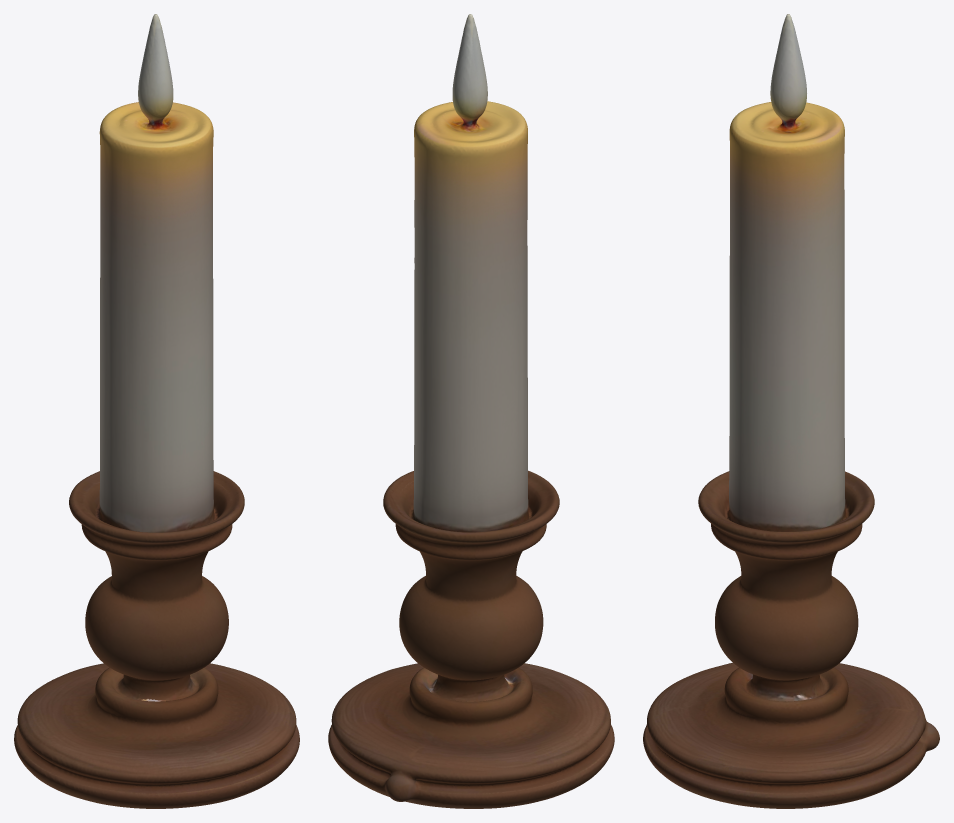
Rendered from candle-10.glb.
3 views of the same model, side by side, from view 1: azimuth 30°, elevation 25°; view 2: azimuth 150°, elevation 25°; view 3: azimuth 270°, elevation 25° (orthographic).
Parts seen in each view (by area): view 1: tripo_node_bebc0272-2e6c-4c96-a715-bcc43b392922; view 2: tripo_node_bebc0272-2e6c-4c96-a715-bcc43b392922; view 3: tripo_node_bebc0272-2e6c-4c96-a715-bcc43b392922.
Part boxes in pixels (x1,y1,x2,y2): tripo_node_bebc0272-2e6c-4c96-a715-bcc43b392922: (14, 14, 299, 808); tripo_node_bebc0272-2e6c-4c96-a715-bcc43b392922: (328, 14, 614, 808); tripo_node_bebc0272-2e6c-4c96-a715-bcc43b392922: (643, 14, 939, 808).
Size of the model in its own units: 0.3313 by 0.9493 by 0.3446.
Materials: 1 (1 with a texture image).
